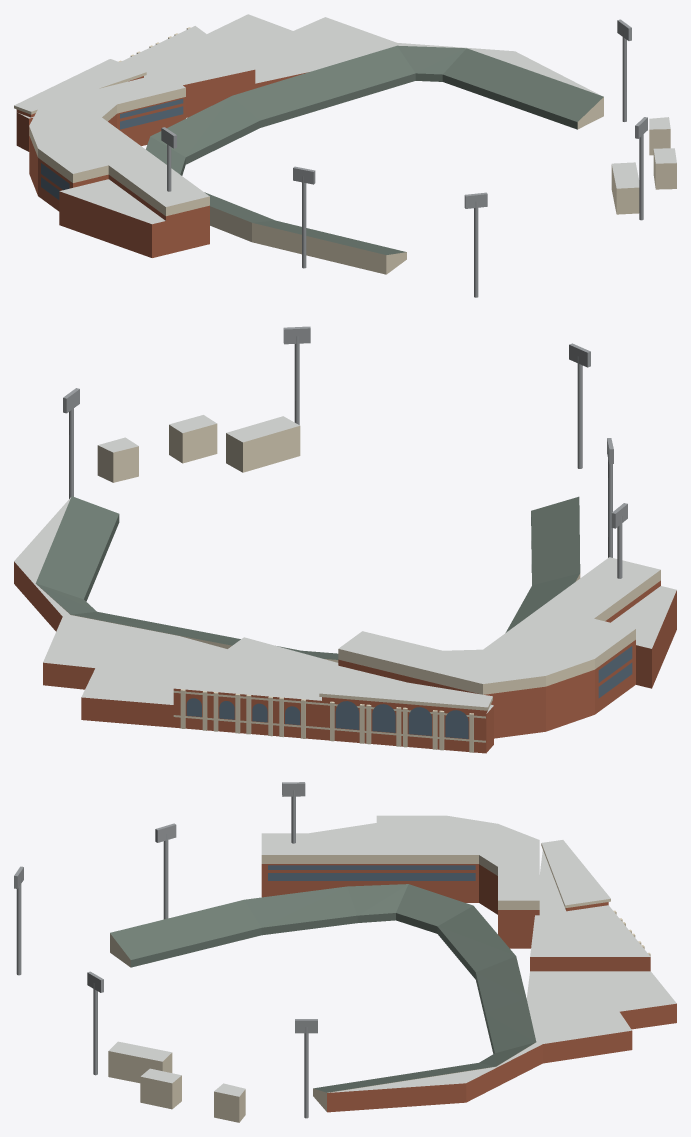
Rendered from cola-segra-park.glb.
3 views of the same model, one above another, from view 1: azimuth 30°, elevation 25°; view 2: azimuth 150°, elevation 25°; view 3: azimuth 270°, elevation 25° (orthographic). The views are drawn at different scales.
Visible parts, largest first — view 1: Segra Park; view 2: Segra Park; view 3: Segra Park.
Boxes of the visible parts, <box> form: Segra Park: <box>14,14,676,297</box>; Segra Park: <box>14,326,676,753</box>; Segra Park: <box>14,782,676,1122</box>.
Size of the model in its own units: 197 by 37.2 by 208.
